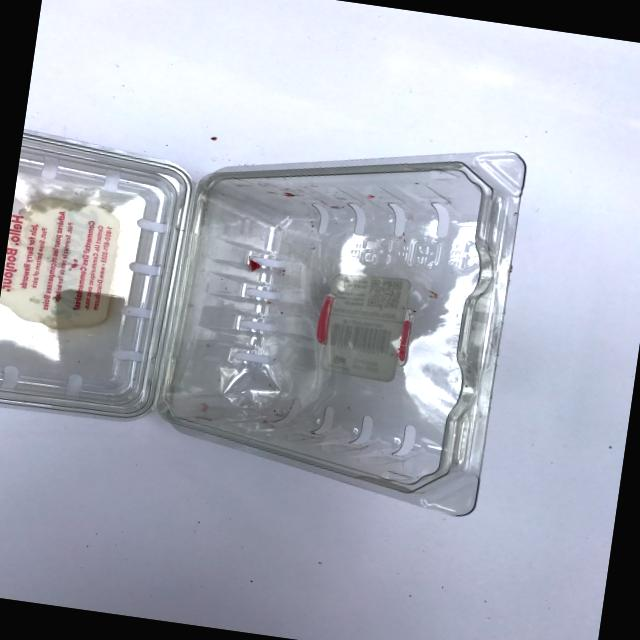Plastic: (0, 48, 635, 582)
